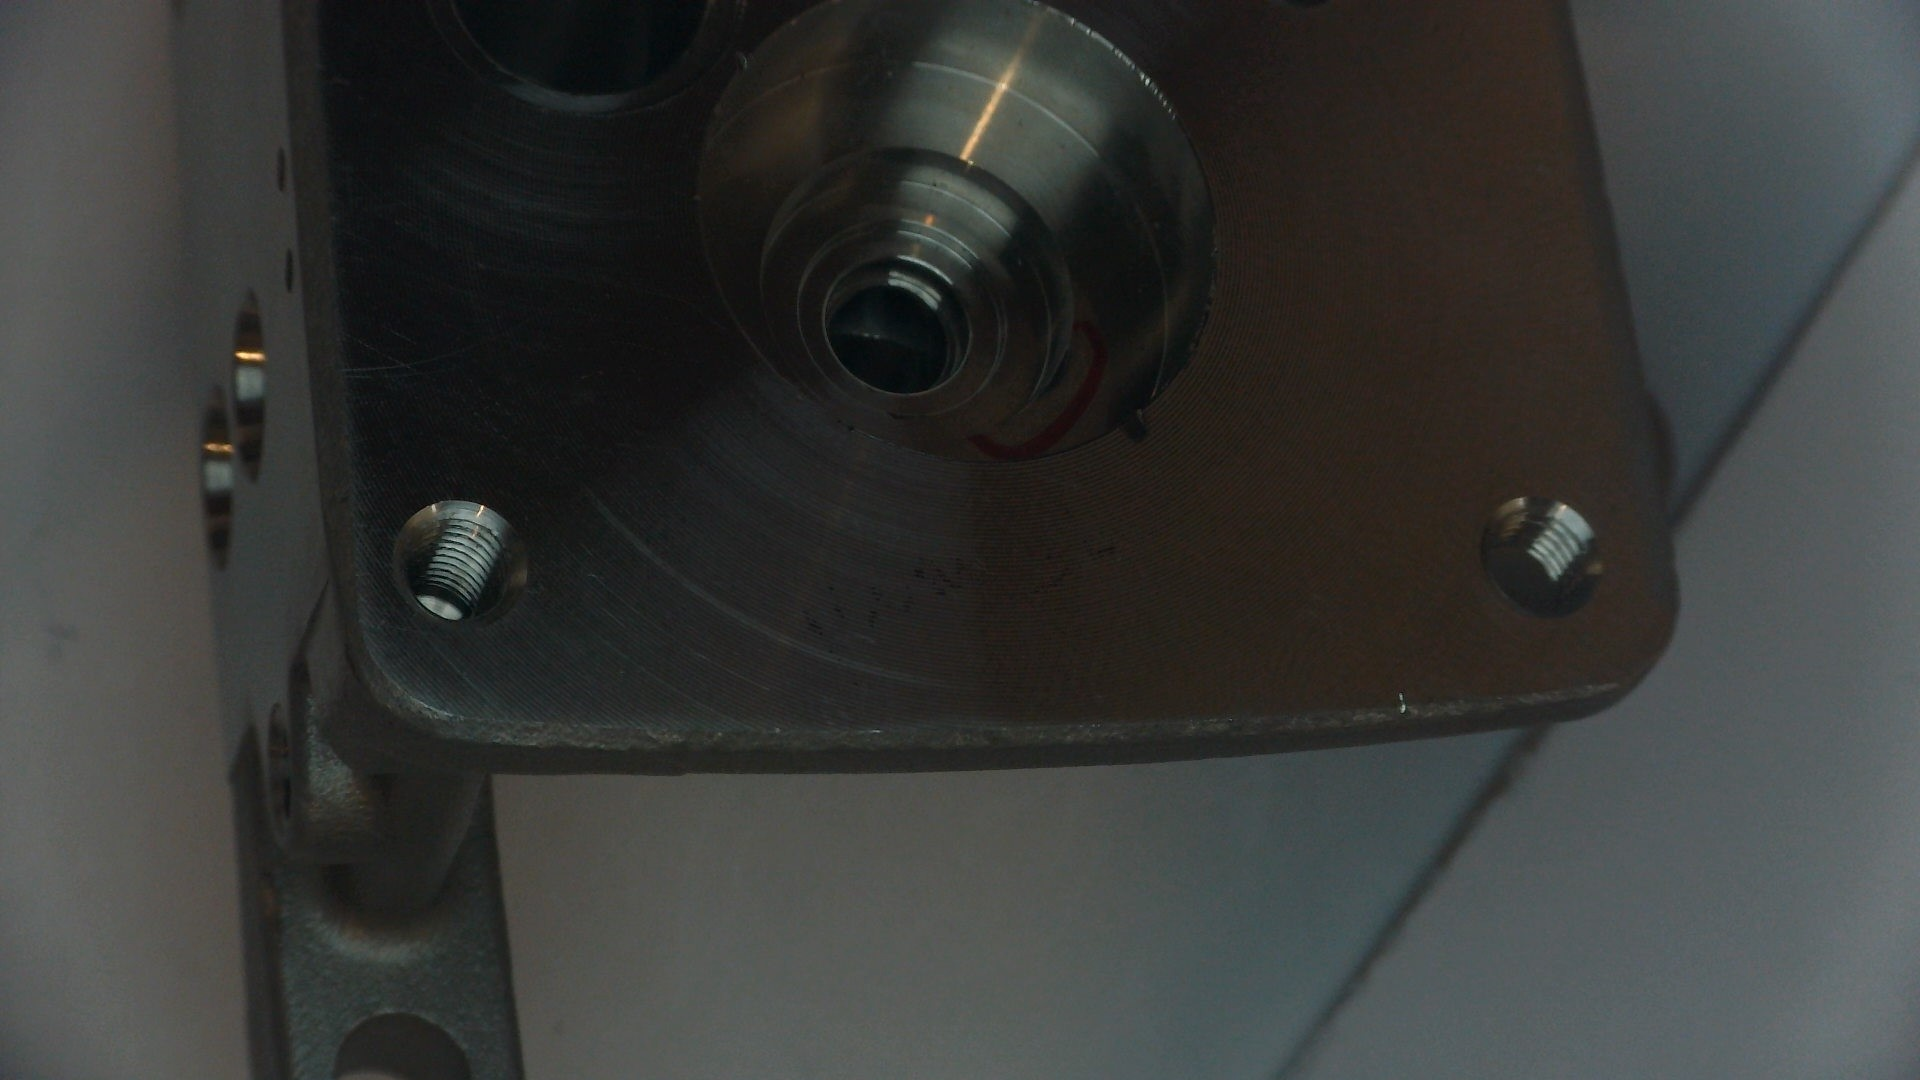dent: (1381, 680, 1420, 727), (1116, 406, 1153, 446), (731, 47, 750, 75)
thread_presence: (404, 509, 512, 621), (1485, 502, 1590, 615)
